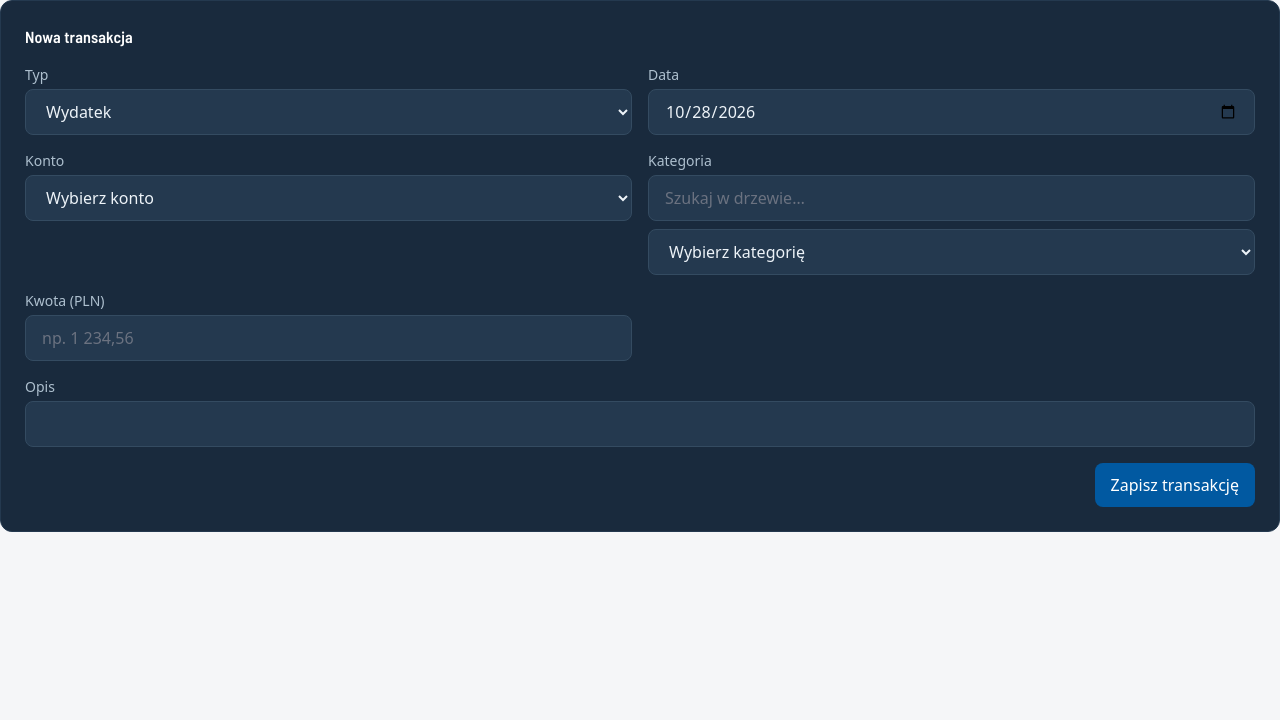
Test case: TransactionForm › defaults to expense and adjusts fields when switching type
Select "Przychód" in the dropdown labelled "Typ": point(328, 112) [25,89,632,135]
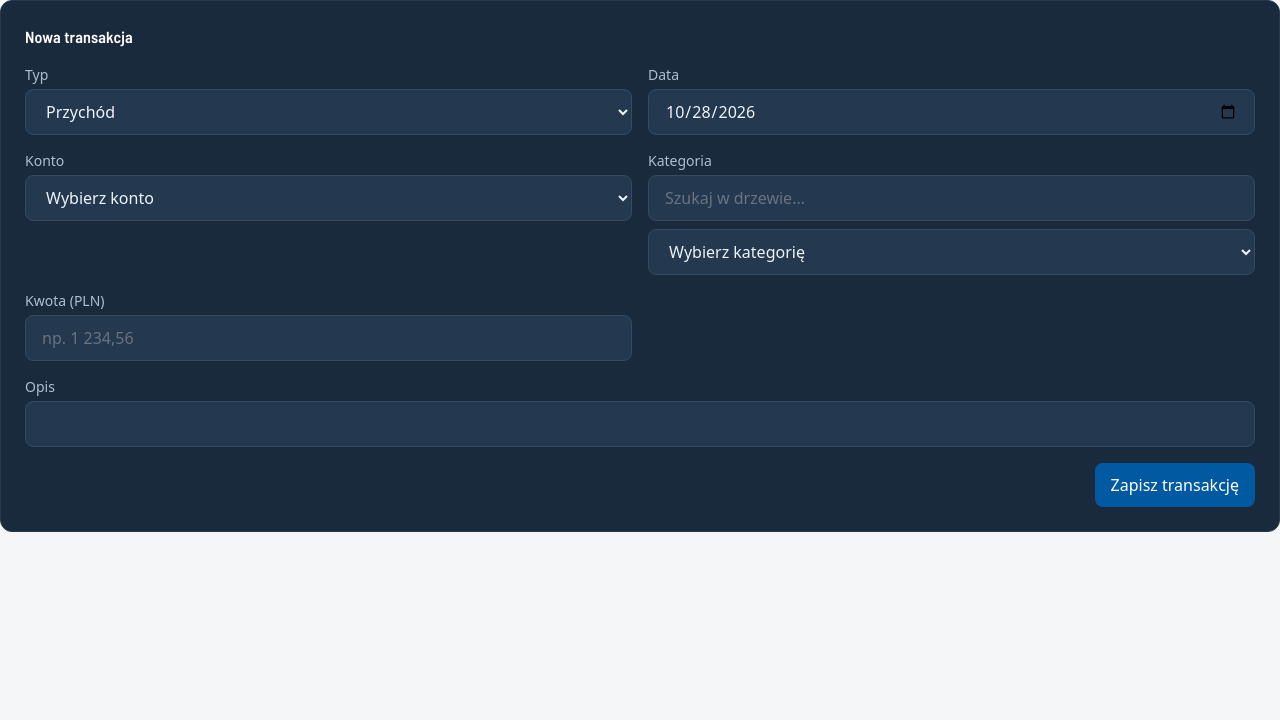
Select "Transfer" in the dropdown labelled "Typ": point(328, 112) [25,89,632,135]
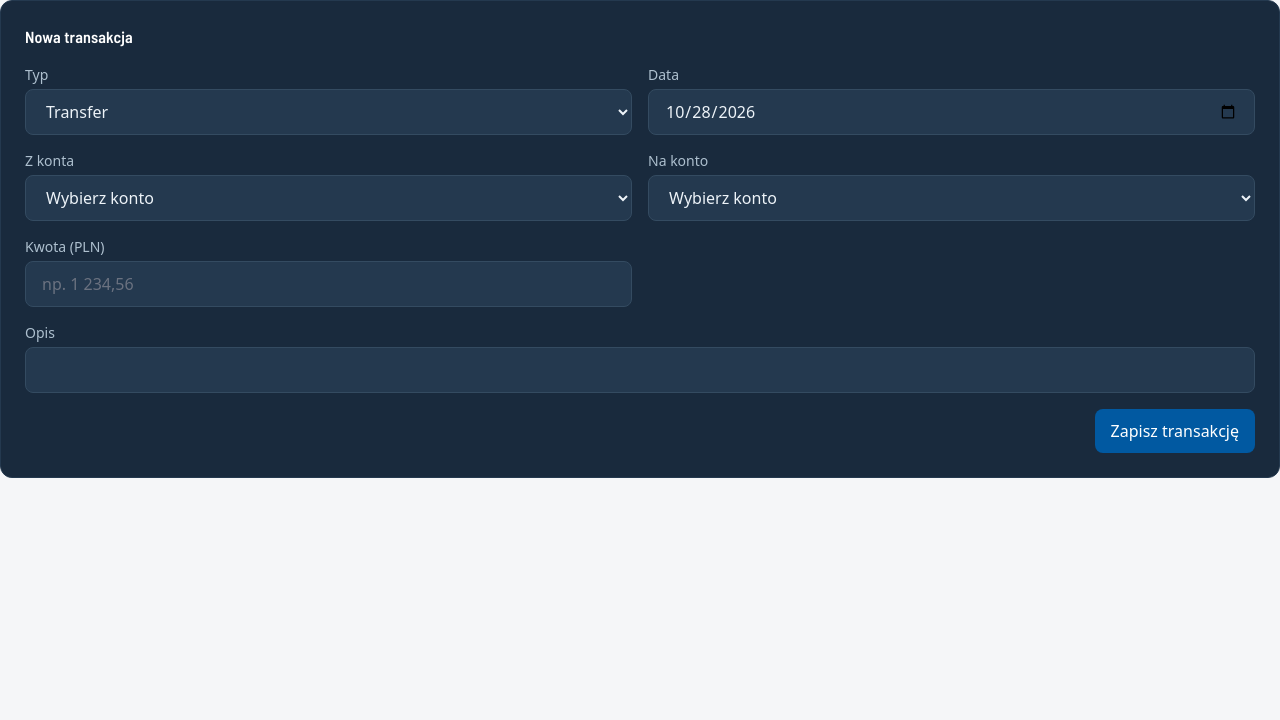
Expected: the dropdown labelled "Z konta" is shown, [25,175,632,221]
Now the label labelled "Kategoria" is gone
Now the dropdown labelled "Na konto" is shown, box [648,175,1255,221]
